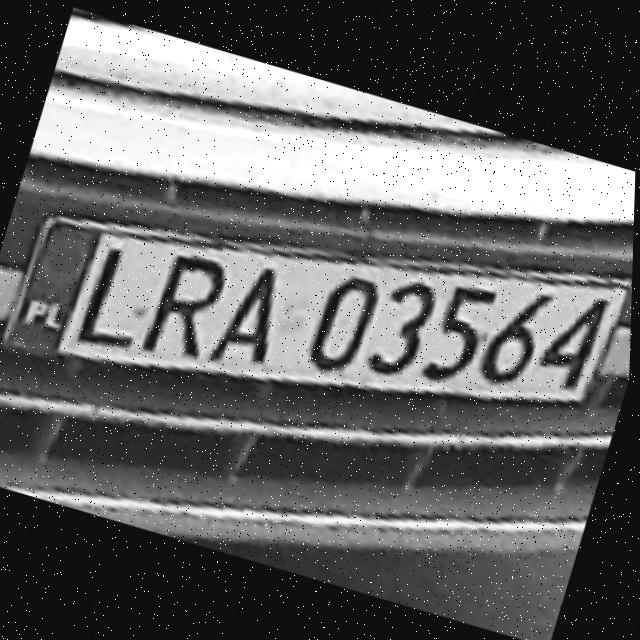license-plates: (4, 217, 626, 402)
